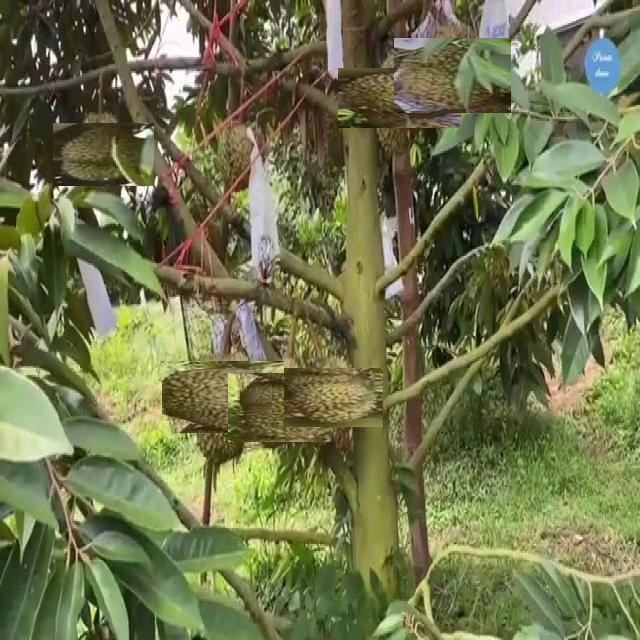durian: (174, 349, 272, 446), (405, 27, 501, 124), (353, 52, 445, 144), (236, 365, 323, 451), (62, 113, 146, 196), (294, 358, 373, 438), (213, 112, 272, 197)
